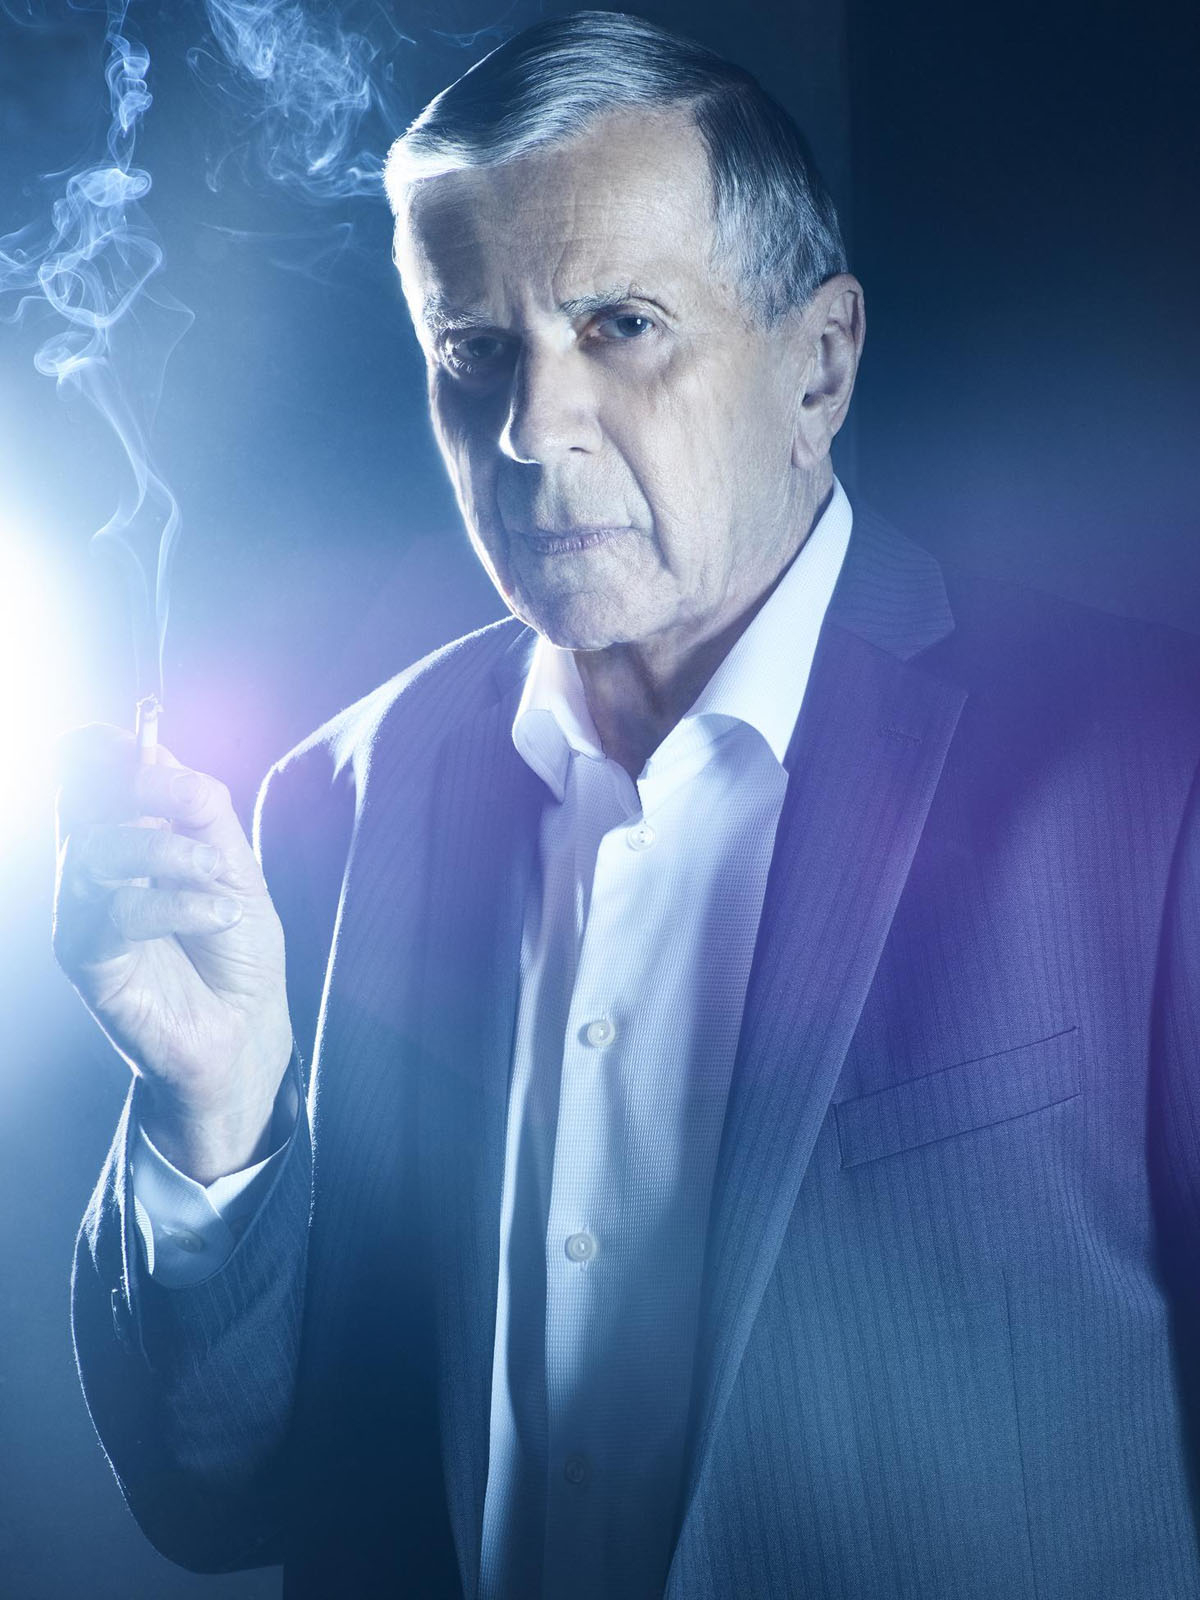cigarette: (108, 679, 216, 770)
